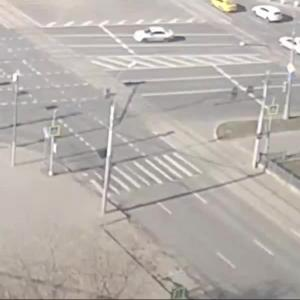car: (131, 27, 179, 45)
